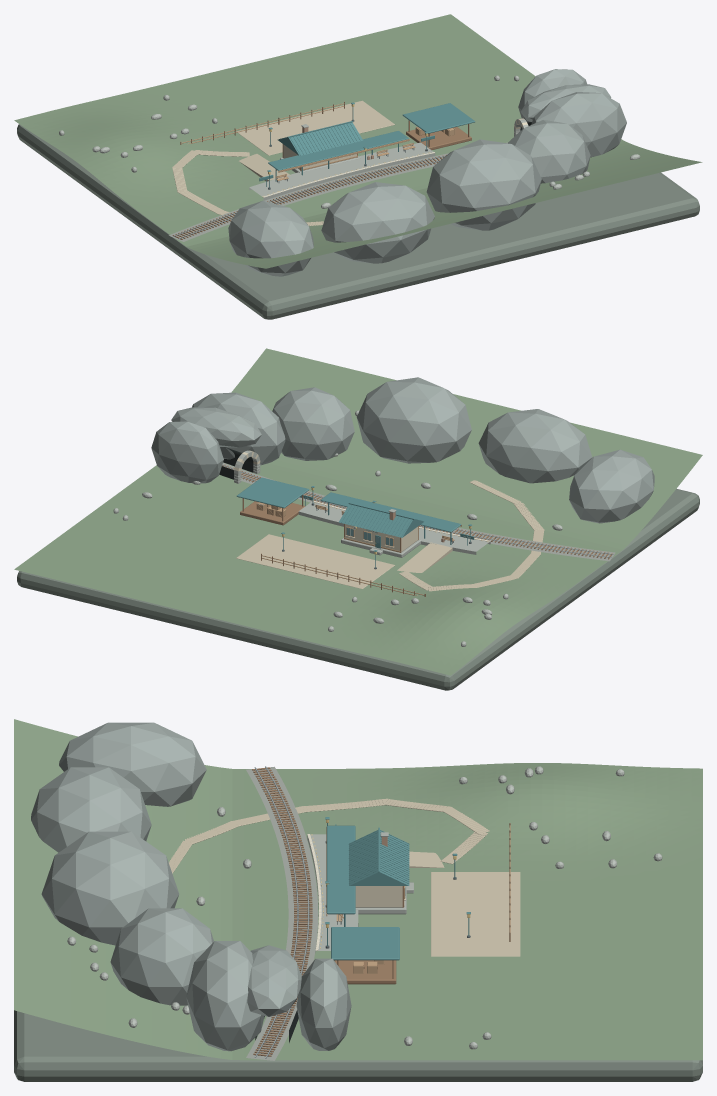
File: AlderPass_UV.fbx
The picture shows the model from 3 angles, top to bottom: view 1: azimuth 30°, elevation 25°; view 2: azimuth 150°, elevation 25°; view 3: azimuth 270°, elevation 25°; orthographic projection. The views are drawn at different scales.
Visible parts, largest first — view 1: 100m sculpted hillside; view 2: 100m sculpted hillside; view 3: 100m sculpted hillside.
Part boxes in pixels (x1,y1,x2,y2): 100m sculpted hillside: (14, 14, 702, 319); 100m sculpted hillside: (14, 348, 702, 690); 100m sculpted hillside: (14, 719, 702, 1081).
Size of the model in its own units: 10104 by 10000 by 2012.
